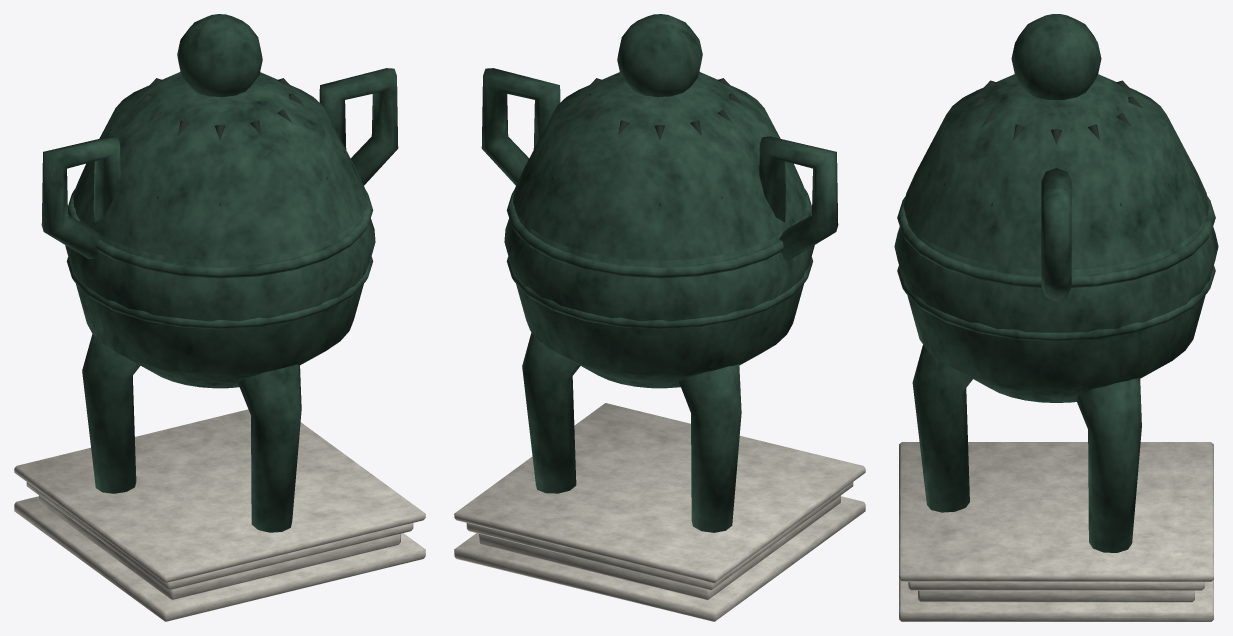
Rendered from suitsukeastia.glb.
The picture shows the model from 3 angles, left to right: view 1: azimuth 30°, elevation 25°; view 2: azimuth 150°, elevation 25°; view 3: azimuth 270°, elevation 25°; orthographic projection. The views are drawn at different scales.
Parts seen in each view (by area): view 1: vihrea-pronssipatina, vaalea-kivi; view 2: vihrea-pronssipatina, vaalea-kivi; view 3: vihrea-pronssipatina, vaalea-kivi.
Part boxes in pixels (left/top/right/bottom): vihrea-pronssipatina: left=41, top=14, right=398, bottom=532; vaalea-kivi: left=14, top=409, right=425, bottom=621; vihrea-pronssipatina: left=481, top=14, right=838, bottom=532; vaalea-kivi: left=454, top=403, right=865, bottom=621; vihrea-pronssipatina: left=894, top=14, right=1218, bottom=552; vaalea-kivi: left=899, top=442, right=1213, bottom=621.
Size of the model in its own units: 0.9974 by 1.4 by 0.7636.
Materials: 2 (2 with a texture image).
